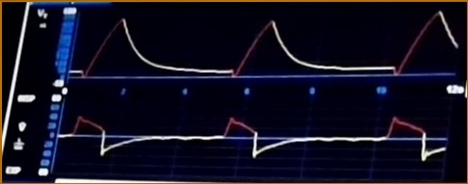Flow: (64, 107, 446, 173)
Leakage Volume: (72, 12, 460, 83)
